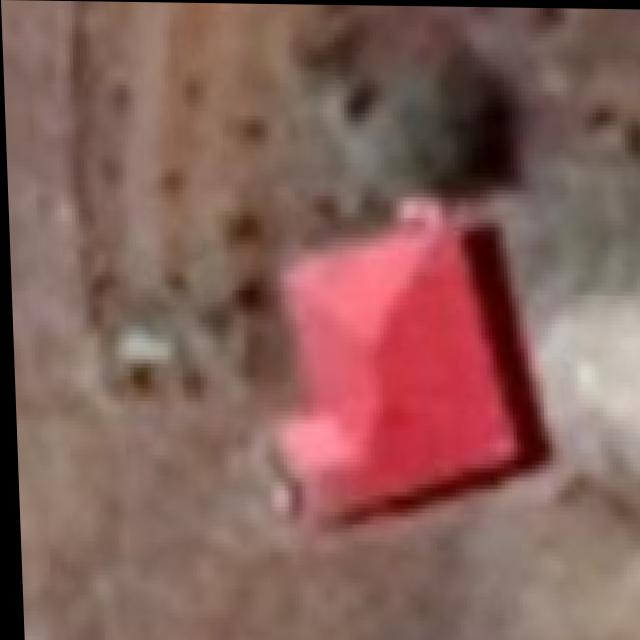Batiment: (276, 202, 545, 522)
